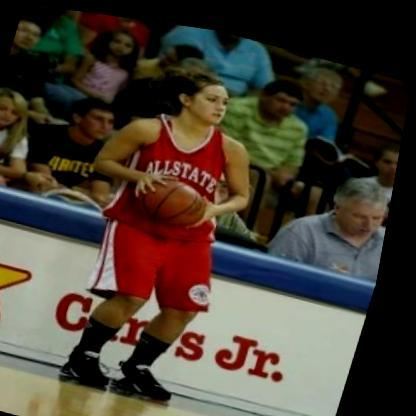basketball: (132, 159, 225, 234)
